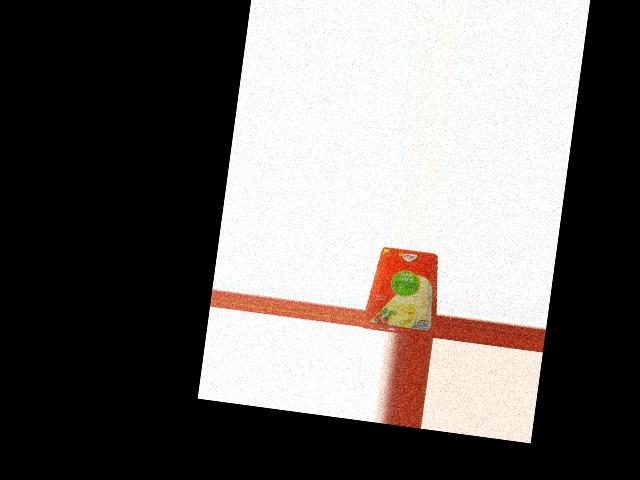cheese: (362, 245, 442, 337)
